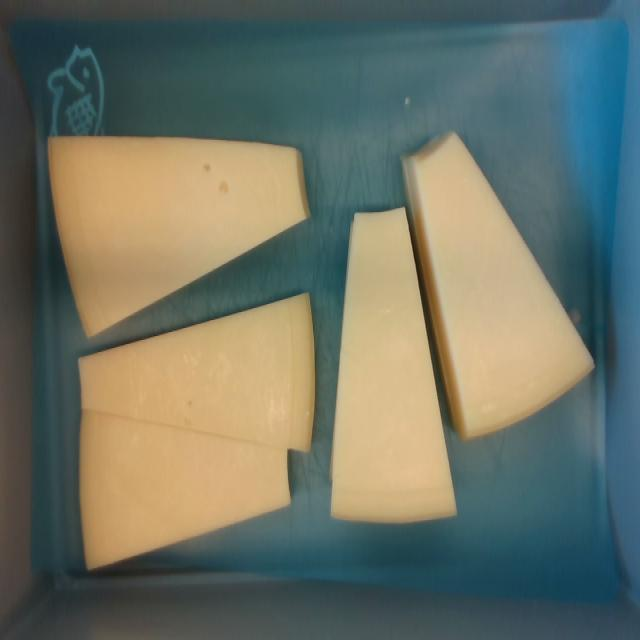Cheese: (413, 132, 596, 437), (49, 137, 308, 336), (331, 208, 455, 521), (81, 292, 316, 450), (80, 420, 289, 565)
